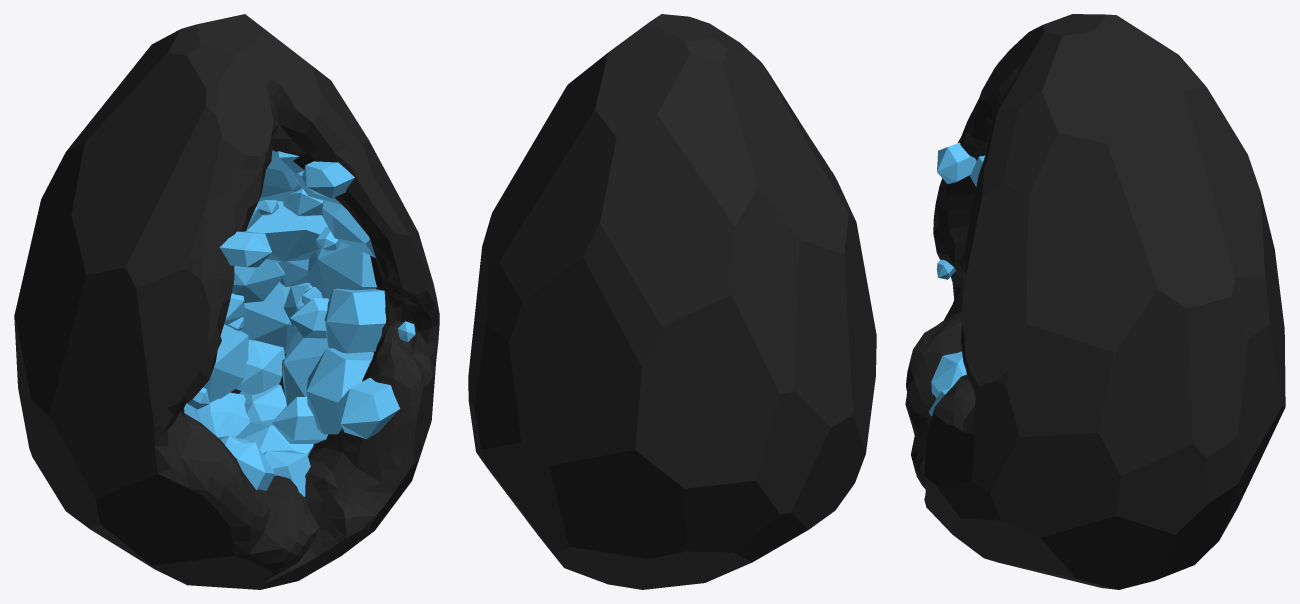
Rendered from kristallei.fbx.
3 renders of one model, left to right at view 1: azimuth 30°, elevation 25°; view 2: azimuth 150°, elevation 25°; view 3: azimuth 270°, elevation 25°, orthographic.
Parts seen in each view (by area): view 1: Sphere.001; view 2: Sphere.001; view 3: Sphere.001.
Part boxes in pixels (box(x1,y1,x2,y2)): Sphere.001: box(14, 14, 439, 589); Sphere.001: box(468, 14, 876, 589); Sphere.001: box(905, 14, 1285, 589).
Bounding box in the file's own units: 198 × 298 × 186.
